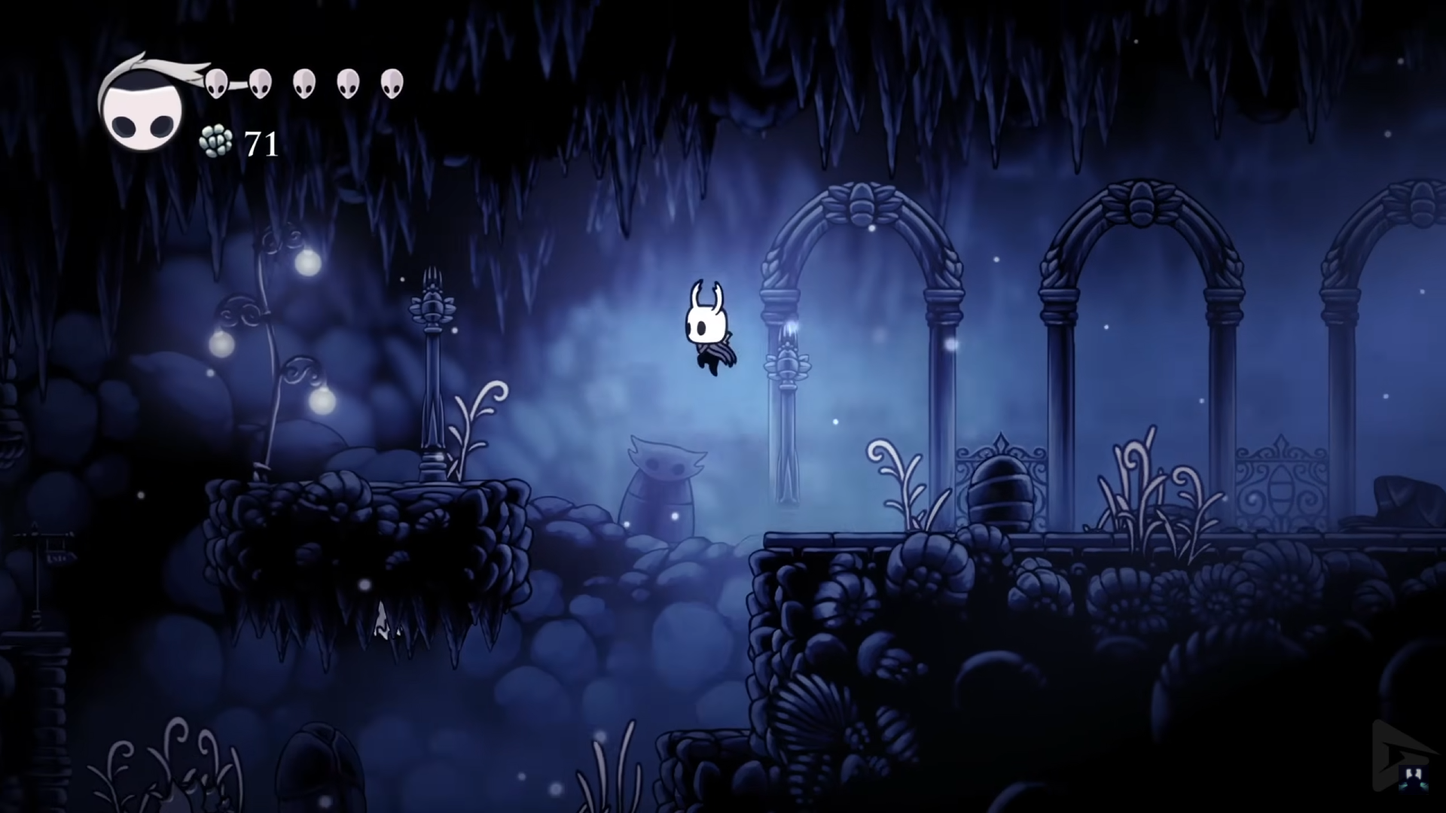HK: (679, 276, 738, 379)
